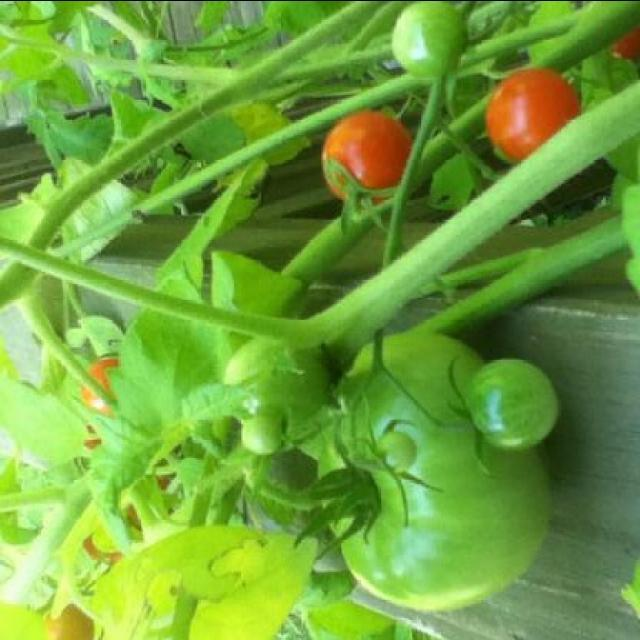Tomato: (306, 316, 544, 618), (314, 102, 416, 200), (460, 356, 557, 454), (218, 337, 316, 432), (487, 66, 579, 160), (392, 2, 459, 82), (75, 358, 118, 417), (47, 602, 92, 640), (610, 23, 639, 55)
